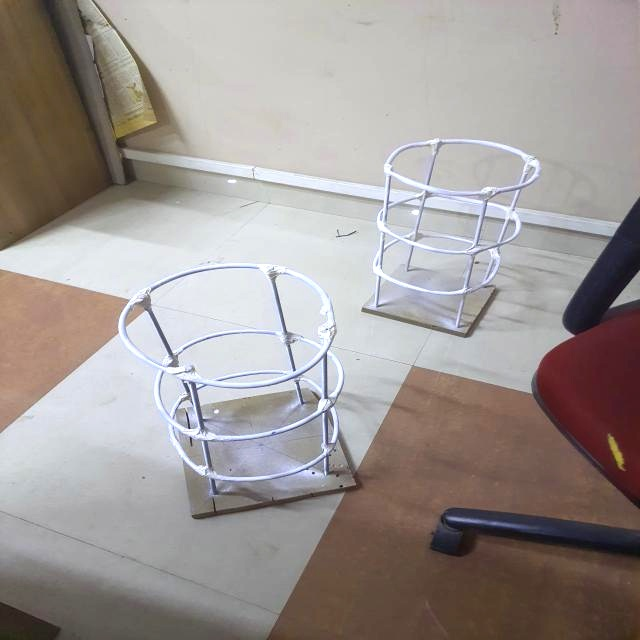silo: (113, 259, 371, 505), (360, 143, 546, 338)
